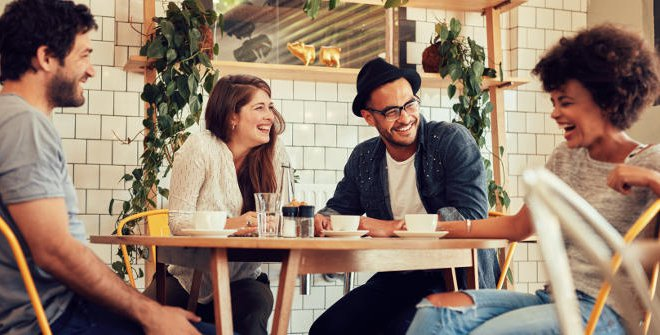person: (518, 38, 659, 205), (340, 57, 469, 206), (5, 6, 98, 150), (189, 80, 283, 186)
